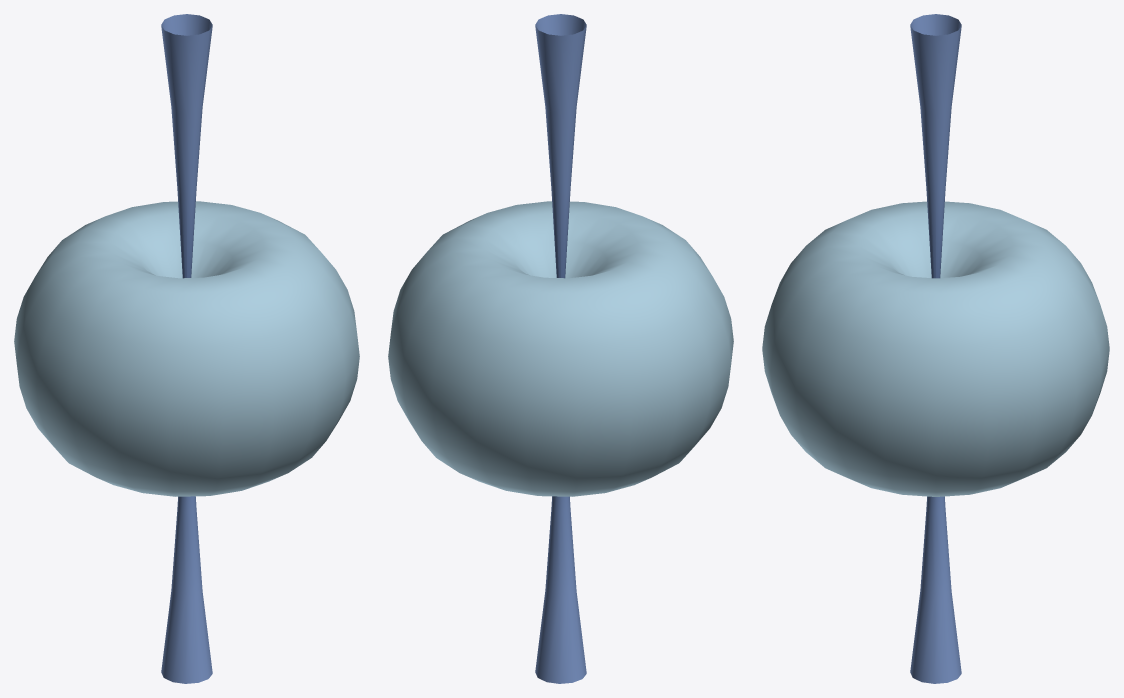
Rendered from space-stars-pulsar_v1.fbx.
The picture shows the model from 3 angles, left to right: view 1: azimuth 30°, elevation 25°; view 2: azimuth 150°, elevation 25°; view 3: azimuth 270°, elevation 25°; orthographic projection.
Parts seen in each view (by area): view 1: Pulsar; view 2: Pulsar; view 3: Pulsar.
Part boxes in pixels (x1,y1,x2,y2): Pulsar: (14,14,359,683); Pulsar: (388,14,733,683); Pulsar: (762,14,1109,683).
Bounding box in the file's own units: 0.243 × 0.5 × 0.243.
